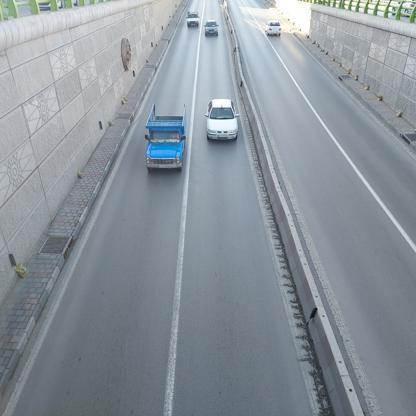Car: (141, 103, 186, 176), (203, 99, 245, 141), (205, 17, 219, 39), (183, 10, 198, 30), (267, 23, 282, 38)
